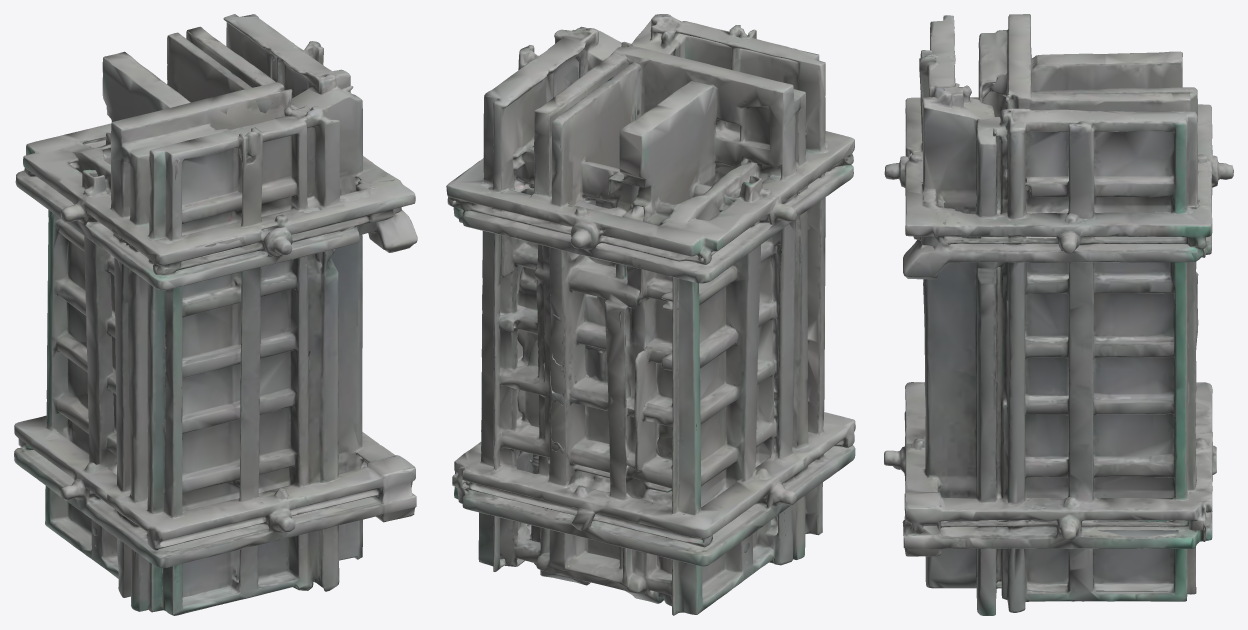
File: Column.glb
3 views of the same model, side by side, from view 1: azimuth 30°, elevation 25°; view 2: azimuth 150°, elevation 25°; view 3: azimuth 270°, elevation 25° (orthographic). The views are drawn at different scales.
Parts seen in each view (by area): view 1: texture_mapping; view 2: texture_mapping; view 3: texture_mapping.
Part boxes in pixels (x1=…): texture_mapping: x1=14, y1=14, x2=417, y2=615; texture_mapping: x1=446, y1=14, x2=855, y2=615; texture_mapping: x1=884, y1=14, x2=1233, y2=615.
Size of the model in its own units: 0.6347 by 1 by 0.6382.
Materials: 1 (1 with a texture image).
